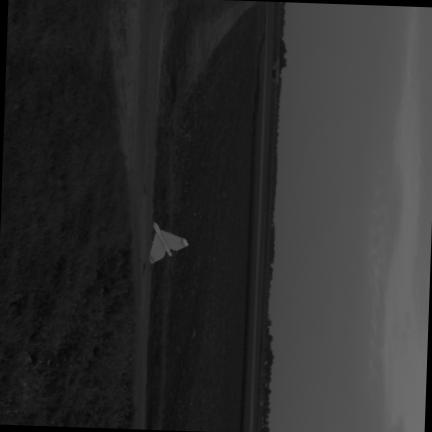Shahed: (150, 223, 187, 263)
